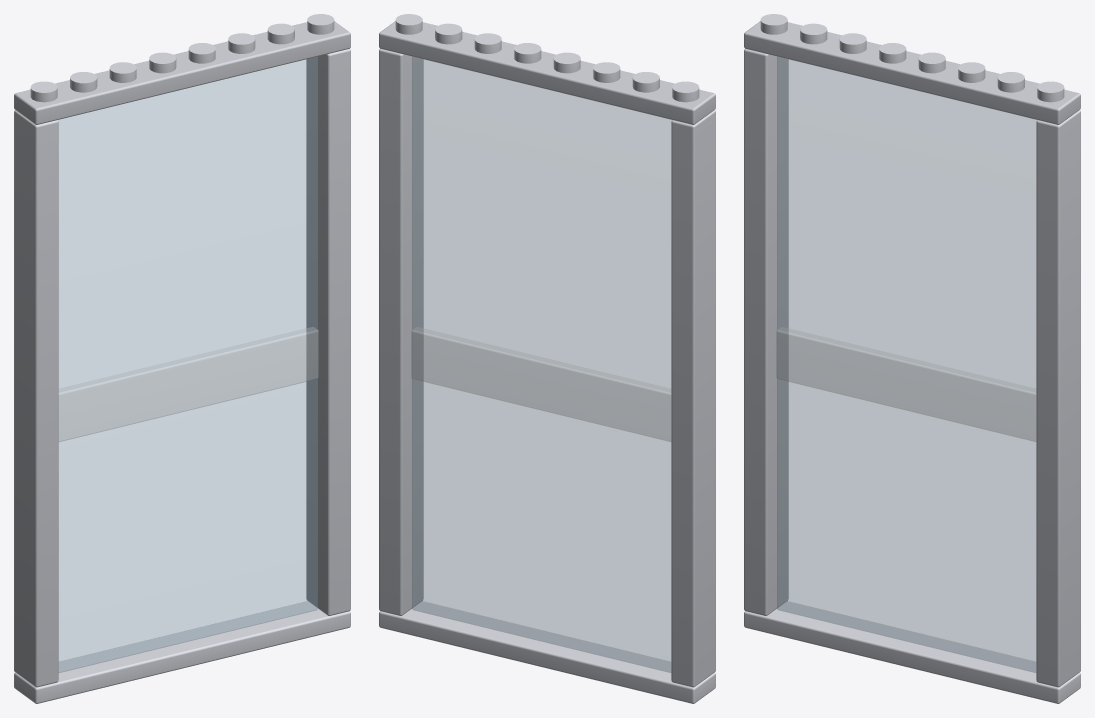
File: glass-wall.glb
3 views of the same model, side by side, from view 1: azimuth 30°, elevation 25°; view 2: azimuth 150°, elevation 25°; view 3: azimuth 330°, elevation 25° (orthographic).
Parts seen in each view (by area): view 1: glass-wall-glass, glass-wall-solid; view 2: glass-wall-glass, glass-wall-solid; view 3: glass-wall-glass, glass-wall-solid.
Part boxes in pixels (left/top/right/bottom): glass-wall-glass: left=58, top=57, right=318, bottom=672; glass-wall-solid: left=14, top=14, right=350, bottom=703; glass-wall-glass: left=411, top=57, right=671, bottom=672; glass-wall-solid: left=379, top=14, right=715, bottom=703; glass-wall-glass: left=776, top=57, right=1036, bottom=672; glass-wall-solid: left=744, top=14, right=1080, bottom=703.
Bounding box in the file's own units: 0.6395 × 1.17 × 0.0795.
